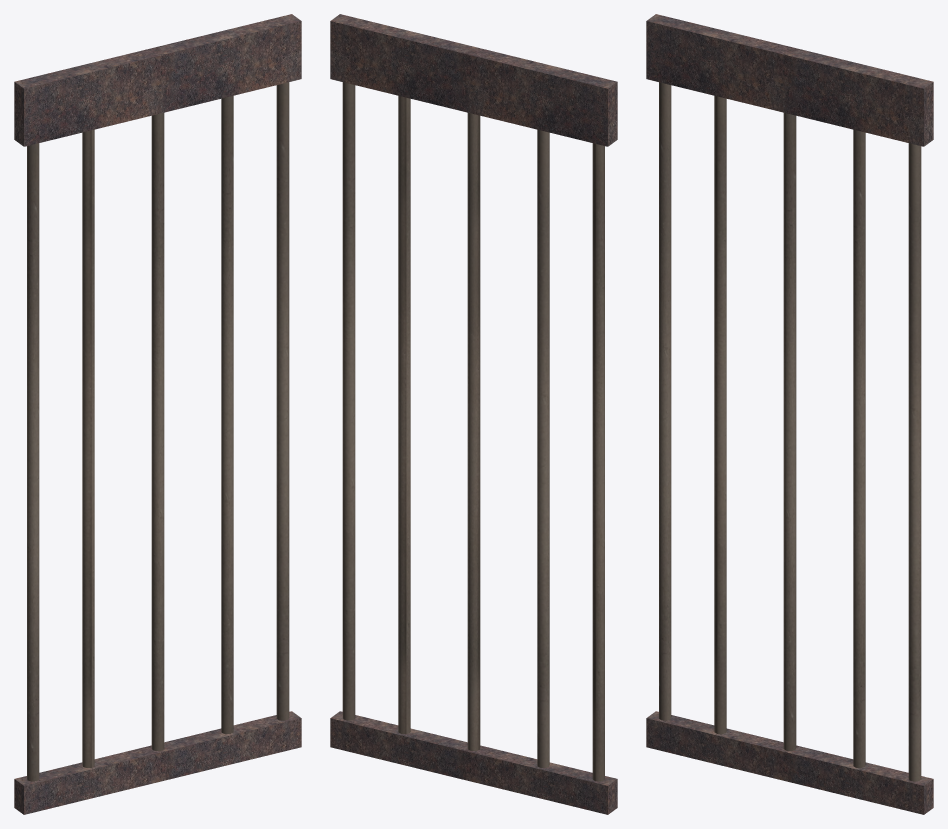
The model's file is jail_bars.glb.
3 views of the same model, side by side, from view 1: azimuth 30°, elevation 25°; view 2: azimuth 150°, elevation 25°; view 3: azimuth 330°, elevation 25° (orthographic).
Parts seen in each view (by area): view 1: Bars; view 2: Bars; view 3: Bars.
Part boxes in pixels (x1=…): Bars: x1=14, y1=14, x2=301, y2=814; Bars: x1=330, y1=14, x2=617, y2=814; Bars: x1=646, y1=14, x2=933, y2=814.
Size of the model in its own units: 1 by 2.5 by 0.06.
Materials: 2 (2 with a texture image).
